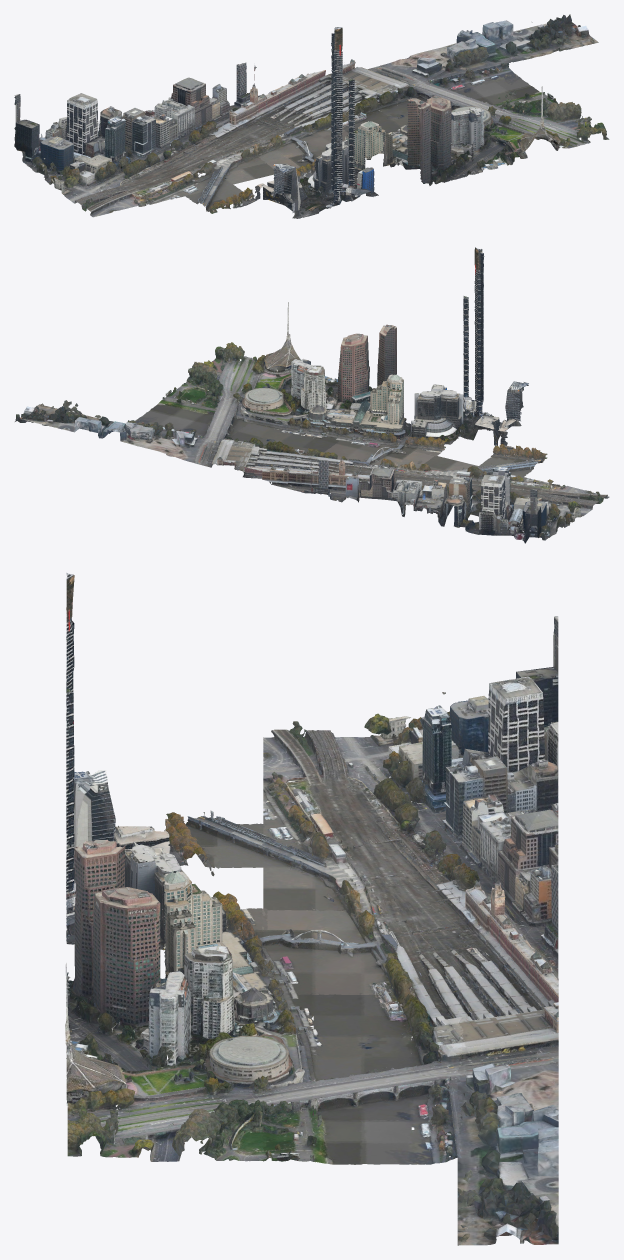
Rendered from southbank-context.glb.
3 renders of one model, top to bottom at view 1: azimuth 30°, elevation 25°; view 2: azimuth 150°, elevation 25°; view 3: azimuth 270°, elevation 25°, orthographic. The views are drawn at different scales.
Parts seen in each view (by area): view 1: I3S 102414, I3S 109798, I3S 19402, I3S 108253, I3S 62044, I3S 105838, I3S 23289, I3S 107654, I3S 60745, I3S 21069, I3S 19915, I3S 107186 (+5 smaller); view 2: I3S 102414, I3S 62044, I3S 107186, I3S 60745, I3S 19402, I3S 23289, I3S 105838, I3S 107654, I3S 109798, I3S 21069, I3S 19915, I3S 106433 (+5 smaller); view 3: I3S 102414, I3S 62044, I3S 60745, I3S 108253, I3S 109798, I3S 19402, I3S 107654, I3S 107186, I3S 21069, I3S 19915, I3S 23289, I3S 20222 (+5 smaller).
Boxes of the visible parts, x1,y1,x2,y2 form: I3S 102414: (392,95,516,185); I3S 109798: (40,116,186,217); I3S 19402: (385,14,598,83); I3S 108253: (134,119,273,195); I3S 62044: (464,86,609,160); I3S 105838: (304,27,378,207); I3S 23289: (14,93,134,174); I3S 107654: (228,106,348,168); I3S 60745: (411,60,557,113); I3S 21069: (107,77,227,155); I3S 19915: (209,62,318,128); I3S 107186: (318,82,462,134); I3S 102414: (261,324,396,431); I3S 62044: (176,302,300,403); I3S 107186: (213,398,349,464); I3S 60745: (125,387,262,443); I3S 19402: (15,400,213,461); I3S 23289: (448,475,561,543); I3S 105838: (420,247,485,435); I3S 107654: (300,428,436,481); I3S 109798: (472,467,609,529); I3S 21069: (361,468,474,526); I3S 19915: (275,458,374,502); I3S 106433: (348,374,410,444); I3S 102414: (67,839,267,1071); I3S 62044: (65,963,267,1161); I3S 60745: (262,1046,463,1164); I3S 108253: (263,763,462,911); I3S 109798: (263,692,462,825); I3S 19402: (457,1063,558,1245); I3S 107654: (262,889,461,994); I3S 107186: (262,974,463,1079); I3S 21069: (457,754,558,905); I3S 19915: (459,848,558,990); I3S 23289: (458,616,558,780); I3S 20222: (459,960,558,1067).
Bounding box in the file's own units: 964 × 308 × 394.
17 materials, 17 textured.
